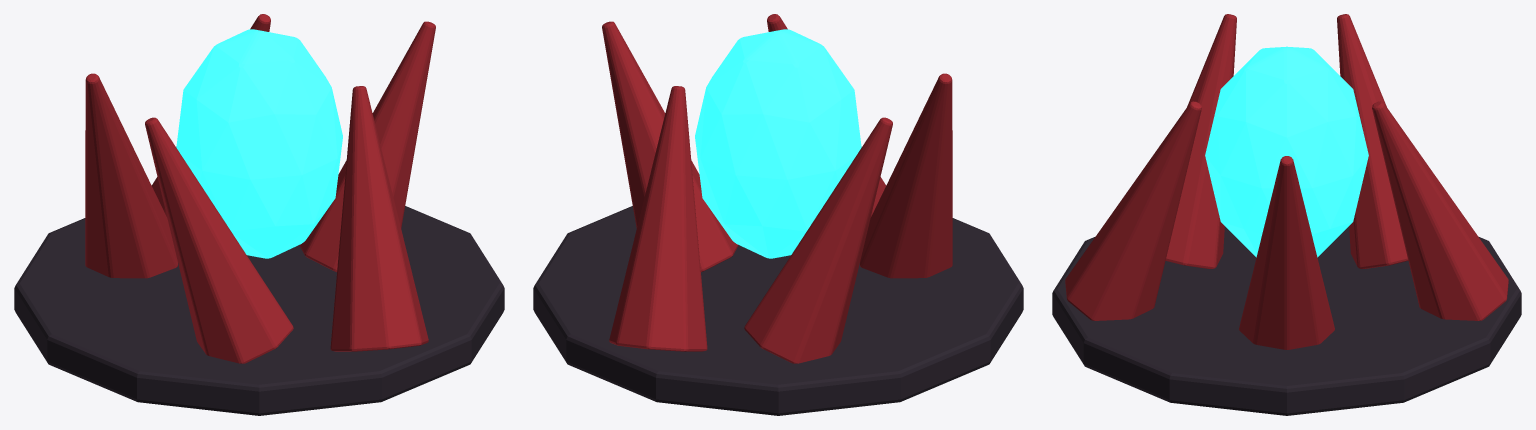
Rendered from alien_power.glb.
3 views of the same model, side by side, from view 1: azimuth 30°, elevation 25°; view 2: azimuth 150°, elevation 25°; view 3: azimuth 270°, elevation 25° (orthographic). The views are drawn at different scales.
Visible parts, largest first — view 1: Foundation, ReactorCore, ReactorBlade.004, ReactorBlade.003, ReactorBlade.002, ReactorBlade, ReactorBlade.001; view 2: Foundation, ReactorCore, ReactorBlade.001, ReactorBlade.002, ReactorBlade.003, ReactorBlade, ReactorBlade.004; view 3: Foundation, ReactorCore, ReactorBlade.001, ReactorBlade.004, ReactorBlade, ReactorBlade.002, ReactorBlade.003.
Part boxes in pixels (x1,y1,x2,y2): Foundation: (14,206,504,415); ReactorCore: (176,29,342,258); ReactorBlade.004: (330,86,428,351); ReactorBlade.003: (145,117,293,363); ReactorBlade.002: (85,73,177,278); ReactorBlade: (299,21,435,272); ReactorBlade.001: (151,14,270,216); Foundation: (533,206,1023,415); ReactorCore: (695,29,861,258); ReactorBlade.001: (609,86,707,351); ReactorBlade.002: (744,117,892,363); ReactorBlade.003: (860,73,952,278); ReactorBlade: (602,21,738,272); ReactorBlade.004: (767,14,886,216); Foundation: (1052,226,1521,415); ReactorCore: (1205,46,1368,257); ReactorBlade.001: (1372,101,1508,320); ReactorBlade.004: (1065,101,1201,320); ReactorBlade: (1239,156,1334,349); ReactorBlade.002: (1337,14,1408,268); ReactorBlade.003: (1165,14,1236,268).
Size of the model in its own units: 1.72 by 1.09 by 1.72.
